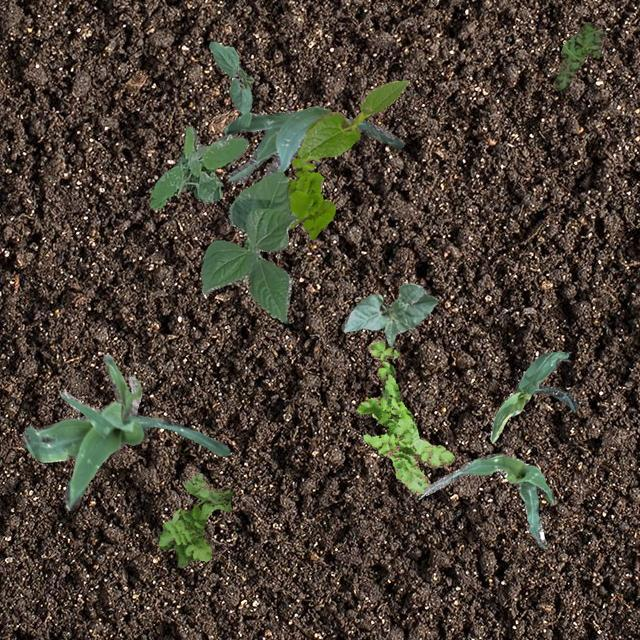crop: (20, 354, 228, 509), (200, 170, 296, 320), (222, 105, 404, 182), (422, 453, 554, 548), (300, 80, 408, 158), (488, 351, 578, 442), (341, 282, 436, 346), (208, 40, 252, 114)
weed: (354, 339, 454, 494), (148, 125, 248, 208), (156, 472, 232, 566), (286, 144, 334, 238), (552, 22, 602, 90)
